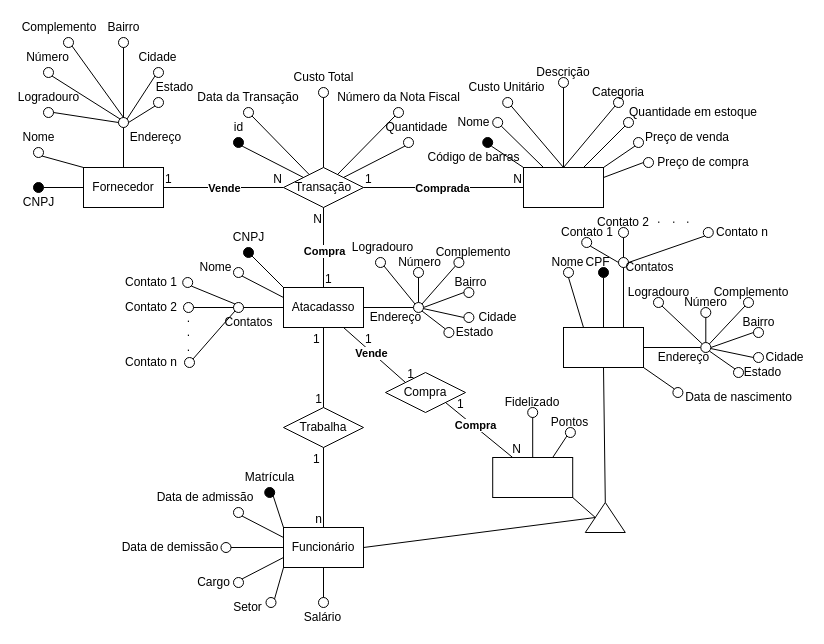
Image size: 824x644. Some labels were removed from this diagram. Here are the shapes that lost their labels. From the top down, the centre of each, then its label:
At (563,187): "Mercadoria".
At (603,347): "Pessoa Física".
At (532,477): "Cliente".
